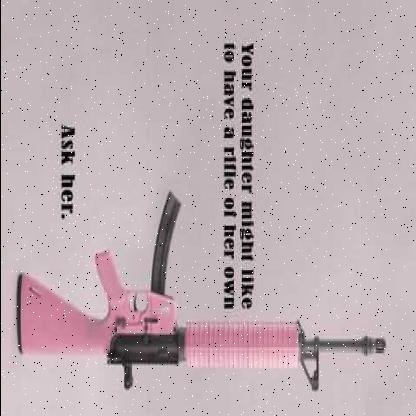rifle: (1, 169, 398, 397)
